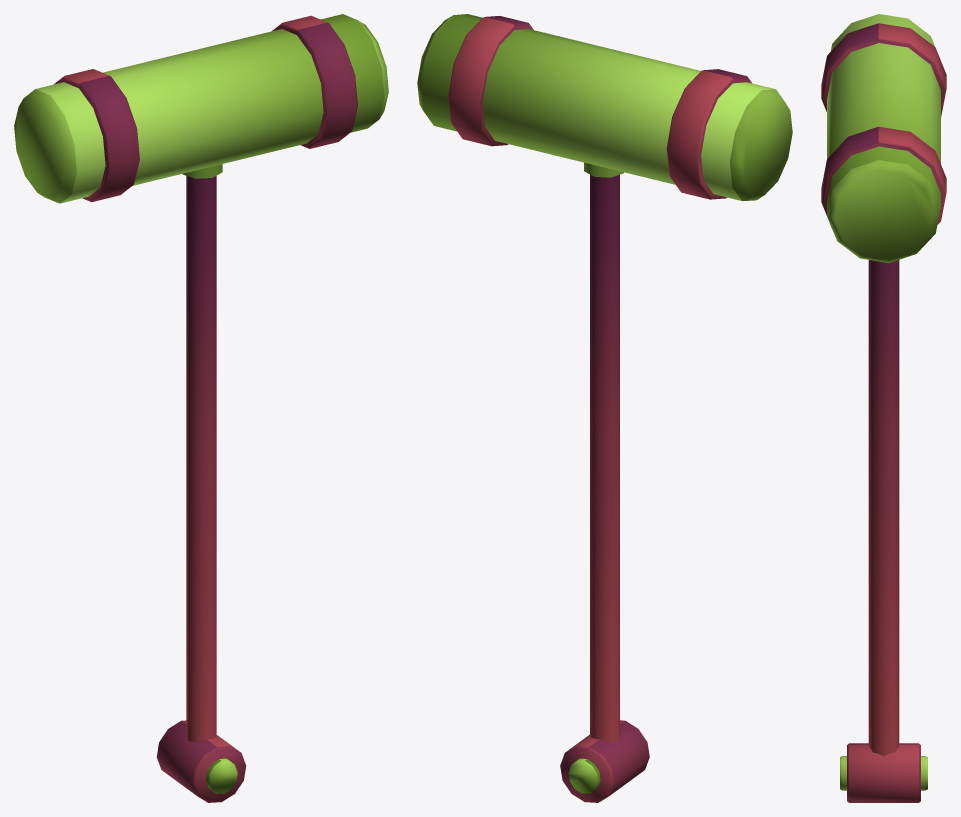
Rendered from OBS0110166.fbx.
3 renders of one model, left to right at view 1: azimuth 30°, elevation 25°; view 2: azimuth 150°, elevation 25°; view 3: azimuth 270°, elevation 25°, orthographic. The views are drawn at different scales.
Parts seen in each view (by area): view 1: smOBS0110166; view 2: smOBS0110166; view 3: smOBS0110166.
Part boxes in pixels (<box>): smOBS0110166: <box>14,14,388,802</box>; smOBS0110166: <box>417,14,792,802</box>; smOBS0110166: <box>821,14,946,802</box>.
Bounding box in the file's own units: 225 × 490 × 77.5.
